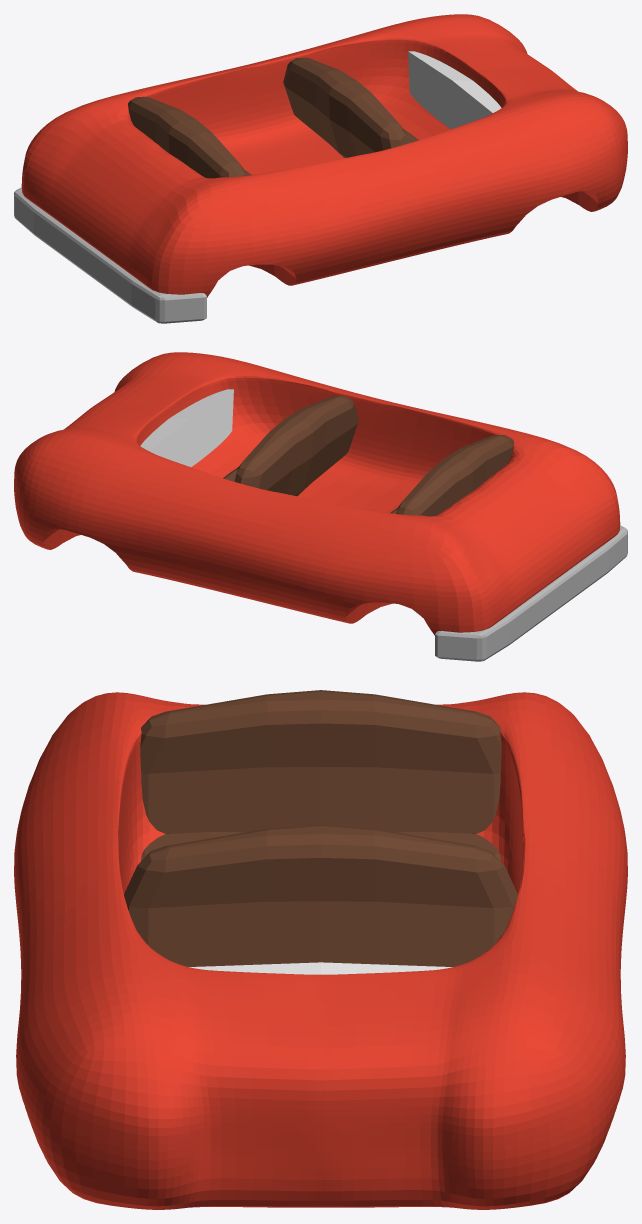
Rendered from Clowncar_Body.glb.
3 views of the same model, one above another, from view 1: azimuth 30°, elevation 25°; view 2: azimuth 150°, elevation 25°; view 3: azimuth 270°, elevation 25° (orthographic). The views are drawn at different scales.
Parts seen in each view (by area): view 1: Carbod, Seatback.002, Back_Bunper, Seatback.004, Dash; view 2: Carbod, Seatback.002, Back_Bunper, Seatback.004, Dash; view 3: Carbod, Seatback.002, Seatback.004, Dash, Seatback.001.
Boxes of the visible parts, left/top/right/bottom form: Carbod: left=21, top=14, right=627, bottom=297; Seatback.002: left=283, top=57, right=407, bottom=158; Back_Bunper: left=14, top=187, right=206, bottom=323; Seatback.004: left=128, top=96, right=245, bottom=178; Dash: left=408, top=51, right=501, bottom=128; Carbod: left=14, top=352, right=620, bottom=635; Seatback.002: left=234, top=395, right=358, bottom=496; Back_Bunper: left=435, top=525, right=627, bottom=661; Seatback.004: left=396, top=434, right=513, bottom=516; Dash: left=140, top=389, right=233, bottom=466; Carbod: left=14, top=692, right=627, bottom=1209; Seatback.002: left=124, top=824, right=517, bottom=966; Seatback.004: left=140, top=690, right=501, bottom=833; Dash: left=189, top=962, right=452, bottom=974; Seatback.001: left=141, top=832, right=500, bottom=861.
Bounding box in the file's own units: 4.49 × 1.11 × 2.83.
